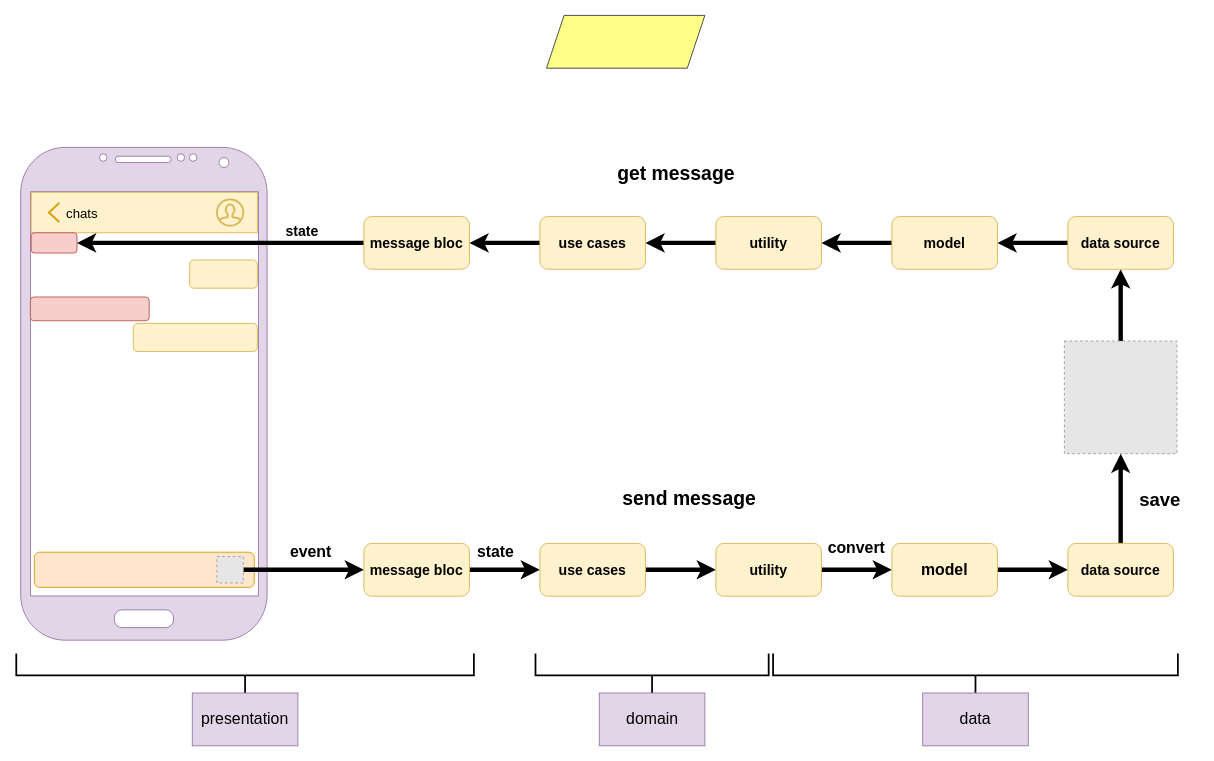
The diagram is 1214 pixels wide and 761 high, and some of its shapes have lost their labels. Grey dashed boxes stand in for pictures. Here are the shapes that lost their labels. From the top down, the box of each, then its label:
(546, 15, 705, 68): data flow
(30, 191, 257, 233): name
(30, 232, 77, 253): hi 3:11
(189, 259, 257, 288): Hello 3:12
(29, 296, 149, 321): how are you 3:12
(132, 323, 257, 352): good and you 3:12
(33, 551, 254, 587): message
